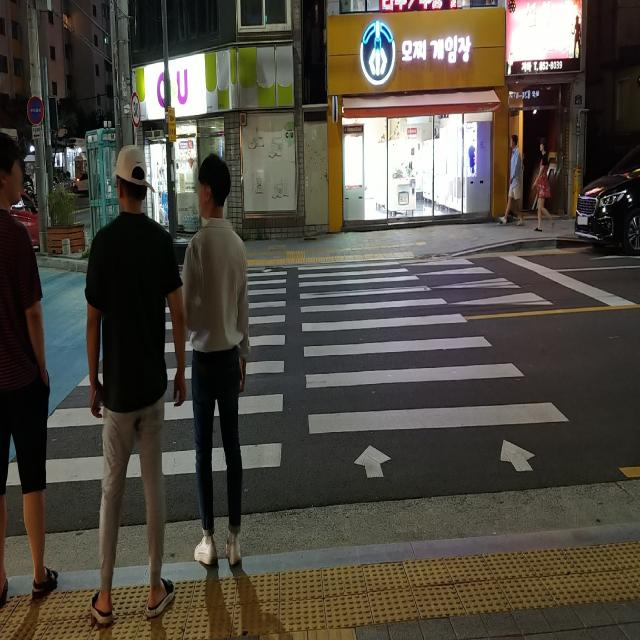횡단보도: (0, 262, 570, 487)
